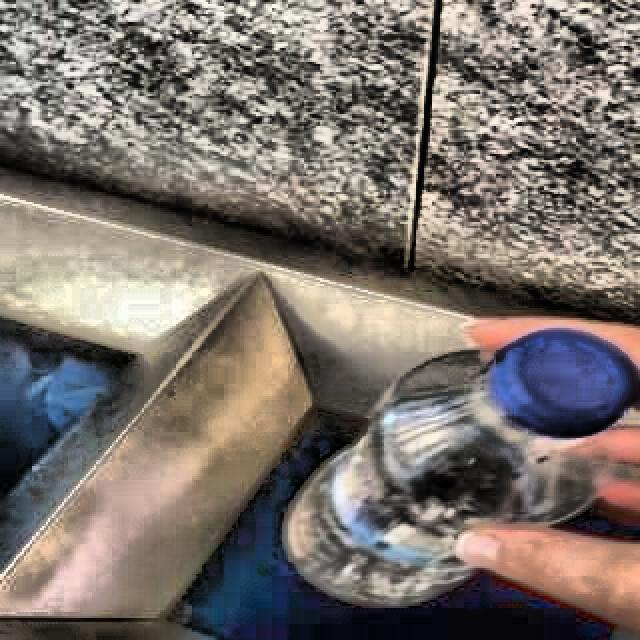plastic: (285, 330, 637, 609)
